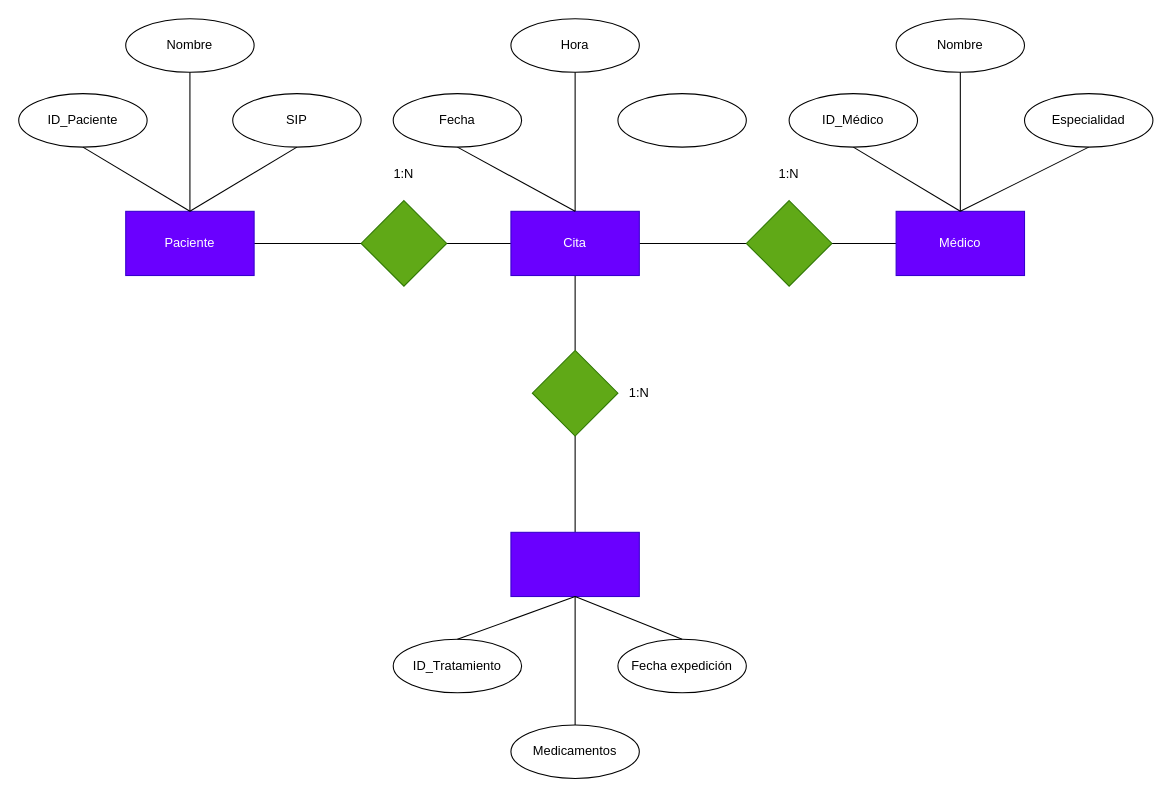
Image size: 1172x797. Some labels were removed from this diagram. Here are the shapes that lost their labels. From the top down, the centre of each, then its label:
At pixel 681 120: "ID_Cita".
At pixel 403 243: "tiene".
At pixel 788 243: "atiende".
At pixel 574 392: "incluye".
At pixel 574 564: "Tratamiento".
